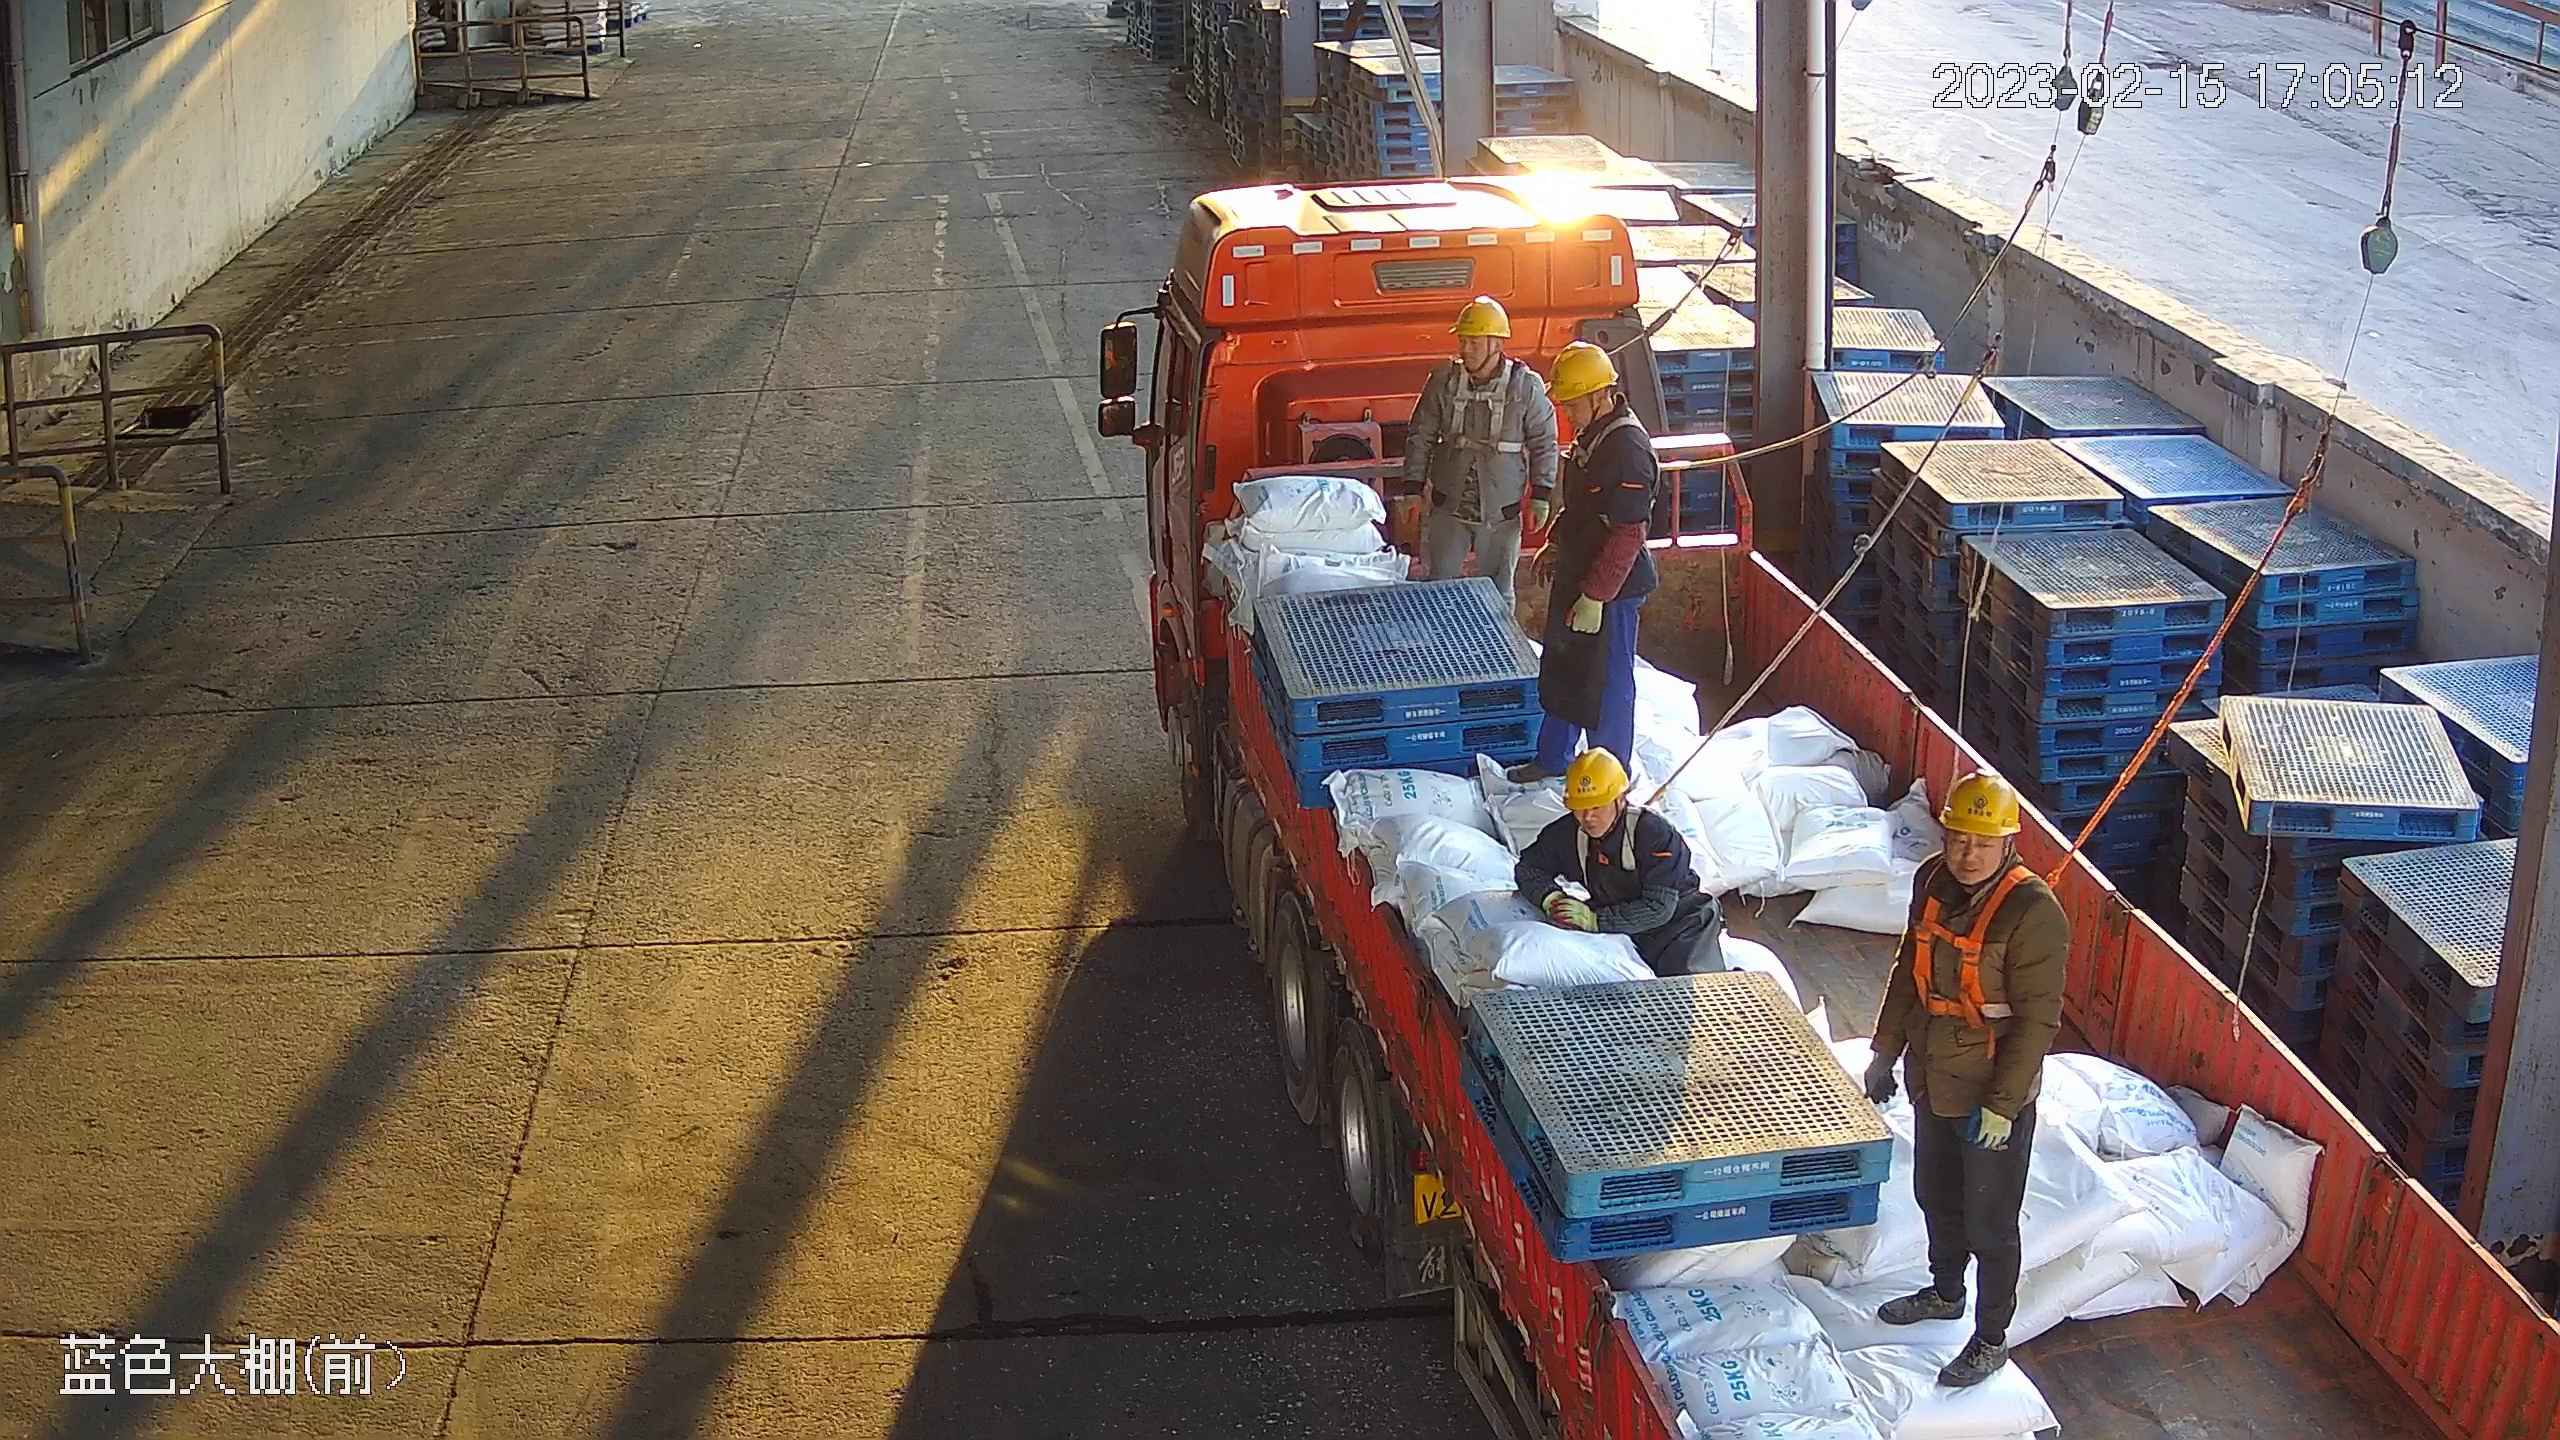belt: (1917, 864, 2052, 1038), (1573, 413, 1683, 496), (1441, 361, 1527, 459), (1565, 813, 1654, 885)
head: (1873, 770, 2071, 973), (1537, 341, 1663, 506), (1524, 748, 1676, 883), (1411, 294, 1553, 434)
helmet: (1934, 771, 2024, 837), (1546, 343, 1621, 401), (1563, 748, 1629, 809), (1448, 297, 1510, 341)
people: (1861, 769, 2073, 1389), (1505, 338, 1661, 788), (1399, 294, 1559, 616), (1512, 746, 1731, 975)
truck: (1096, 166, 2560, 1440)
